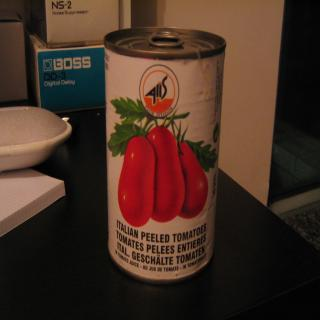tomato: (146, 123, 186, 222), (118, 134, 153, 228), (175, 142, 208, 218)
